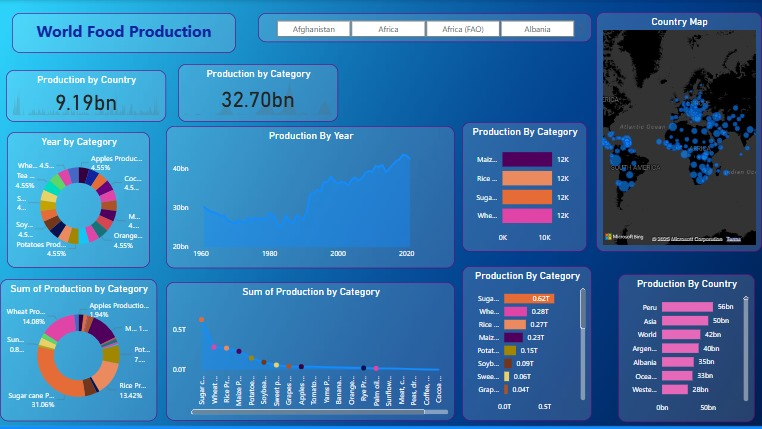

This screenshot's page, from the dashboard's own definition file:
{"tool":"powerbi","page":{"name":"Page 1","canvas":[1280,720],"ordinal":0},"visuals":[{"type":"clusteredBarChart","title":"Production By Category","fields":{"Category":["world food production.Category"],"Y":["Sum(world food production.Production)"]},"box":[776.1,446.8,218.4,260.4],"z":0},{"type":"clusteredBarChart","title":"Production By Category","fields":{"Category":["world food production.Category"],"Y":["CountNonNull(world food production.Country)"]},"box":[776.1,204.9,210,218.4],"z":1000},{"type":"clusteredBarChart","title":"Production By Country","fields":{"Category":["world food production.Country"],"Y":["Sum(world food production.Production)"]},"box":[1038.1,460.3,230.1,248.6],"z":2000},{"type":"stackedAreaChart","title":"Production By Year","fields":{"Y":["Sum(world food production.Production)"],"Category":["world food production.Year"]},"box":[278.8,211.7,485.5,238.5],"z":3000},{"type":"stackedAreaChart","fields":{"Y":["Sum(world food production.Production)"],"Category":["world food production.Category"]},"box":[278.8,473.7,485.5,233.5],"z":4000},{"type":"map","title":"Country Map","fields":{"Category":["world food production.Country"],"Size":["Sum(world food production.Production)"]},"box":[1001.2,20.2,278.8,403.1],"z":5000},{"type":"donutChart","fields":{"Y":["Sum(world food production.Production)"],"Series":["world food production.Category"]},"box":[0,468.7,263.7,238.5],"z":6000},{"type":"donutChart","title":" Year by Category","fields":{"Category":["world food production.Category"],"Y":["Sum(world food production.Year)"]},"box":[11.8,221.7,240.2,228.5],"z":7000},{"type":"slicer","fields":{"Values":["world food production.Country"]},"box":[433.4,21.8,561,48.7],"z":8000},{"type":"textbox","box":[20.2,21.8,376.3,67.2],"z":9000},{"type":"kpi","title":" Production by Country","fields":{"Indicator":["Sum(world food production.Production)"],"TrendLine":["world food production.Country"]},"box":[10.1,117.6,268.8,87.3],"z":10000},{"type":"kpi","title":" Production by Category","fields":{"Indicator":["Sum(world food production.Production)"],"TrendLine":["world food production.Category"]},"box":[299,107.5,268.8,97.4],"z":11000}]}

Visuals, with their boxes in screenshot pixels (x1, y1, x2, y2), scaled from the page's 1280x720 canvas onto the 762x429 screenshot:
"Production By Category" clusteredBarChart: bbox=(462, 266, 592, 421)
"Production By Category" clusteredBarChart: bbox=(462, 122, 587, 252)
"Production By Country" clusteredBarChart: bbox=(618, 274, 755, 422)
"Production By Year" stackedAreaChart: bbox=(166, 126, 455, 268)
stackedAreaChart - Sum(world food production.Production) x world food production.Category: bbox=(166, 282, 455, 421)
"Country Map" map: bbox=(596, 12, 761, 252)
donutChart - Sum(world food production.Production) x world food production.Category: bbox=(0, 279, 157, 421)
" Year by Category" donutChart: bbox=(7, 132, 150, 268)
slicer - world food production.Country: bbox=(258, 13, 592, 42)
textbox: bbox=(12, 13, 236, 53)
" Production by Country" kpi: bbox=(6, 70, 166, 122)
" Production by Category" kpi: bbox=(178, 64, 338, 122)
